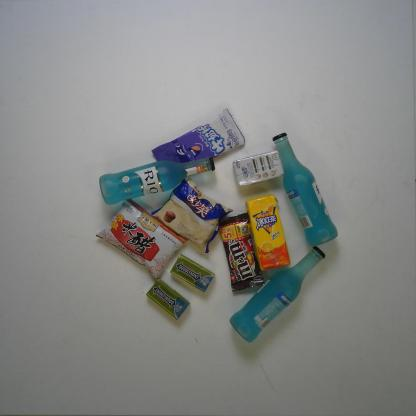Alcohol: (230, 245, 325, 343), (272, 132, 338, 246), (99, 157, 215, 205)
Candy: (151, 109, 246, 179)
Chocolate: (218, 212, 266, 292)
Dessert: (151, 176, 234, 254)
Drink: (245, 193, 292, 271)
Gum: (146, 278, 190, 319), (169, 254, 216, 292)
Milk: (233, 150, 284, 186)
Seasoner: (95, 195, 190, 280)
